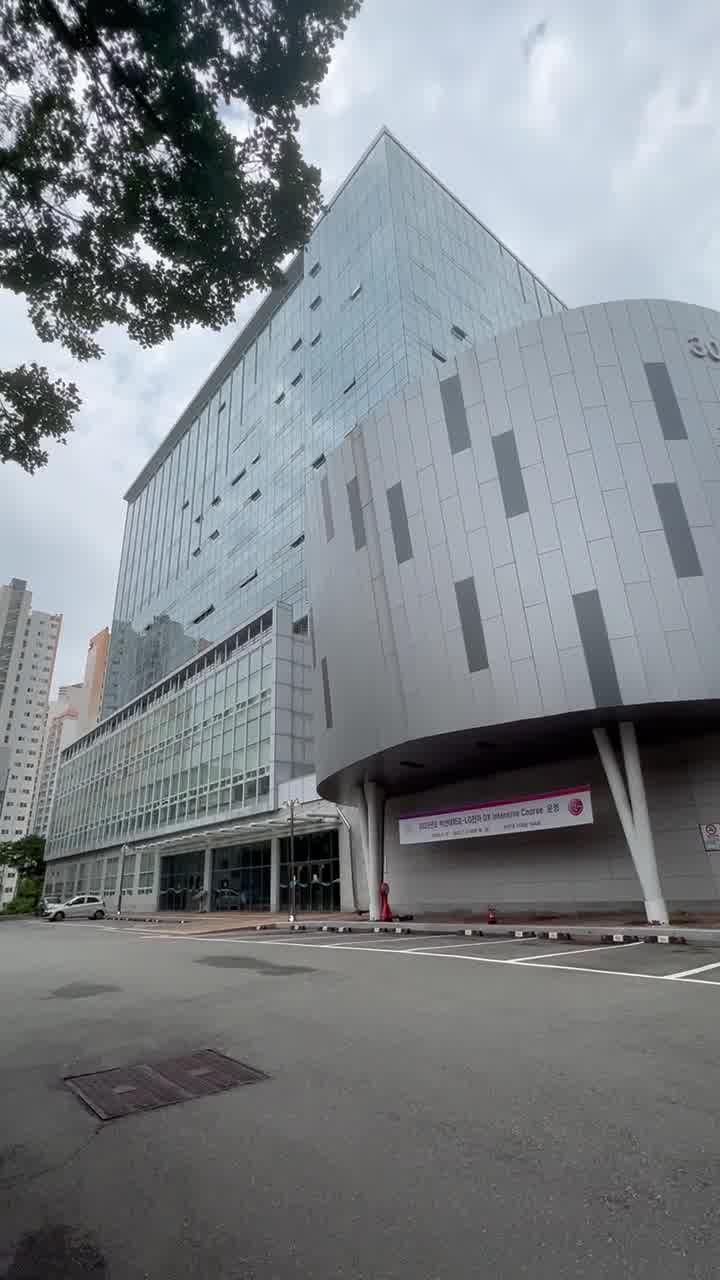building: (148, 266, 720, 780)
